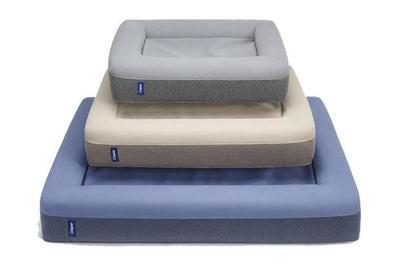bed: (37, 88, 379, 251), (84, 63, 328, 178), (104, 15, 305, 111)
